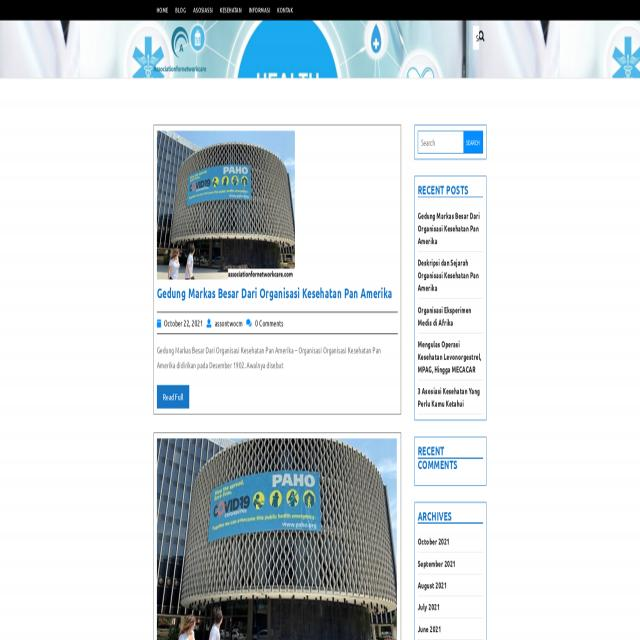button: (157, 437, 397, 640), (157, 130, 295, 280), (154, 20, 206, 78), (157, 385, 189, 409), (217, 0, 245, 21), (246, 0, 273, 21), (190, 0, 216, 21), (274, 0, 296, 21), (463, 131, 482, 153), (172, 0, 190, 21), (475, 24, 490, 49), (154, 1, 171, 21)
field: (418, 131, 464, 153)
